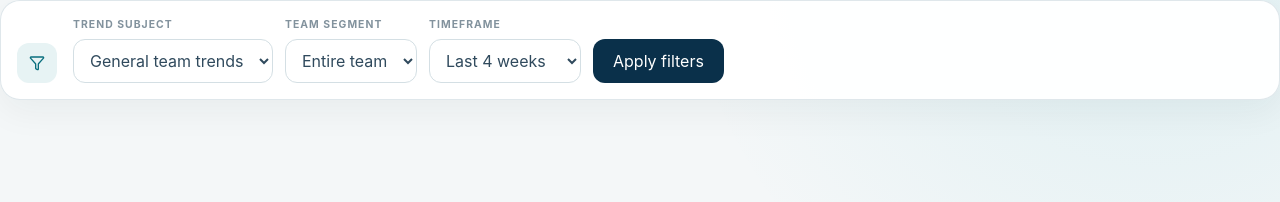
Test: dashboard timeframe filters › switches the whole dashboard between team and individual subjects
Select "Alex Athlete" in the dropdown labelled "Trend subject" at (173, 61), box left=73, top=39, right=273, bottom=83
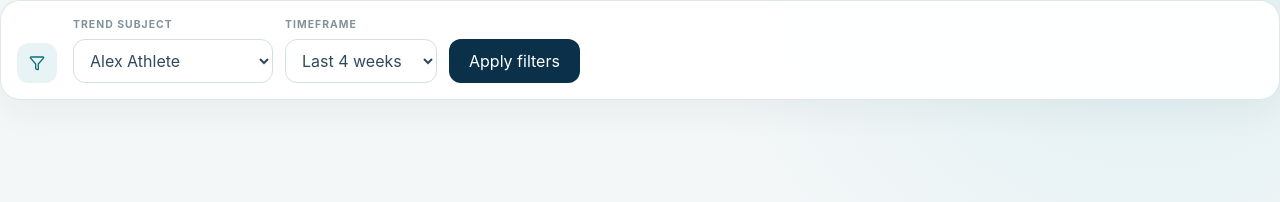
Check: the text labelled "Team segment" is gone
